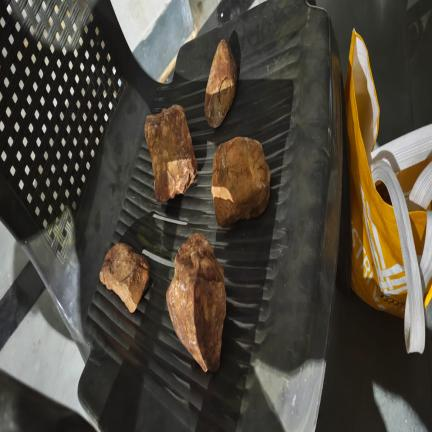Rocks: (167, 234, 225, 371), (212, 138, 270, 227), (145, 105, 197, 201), (100, 244, 149, 312), (205, 40, 237, 127)
